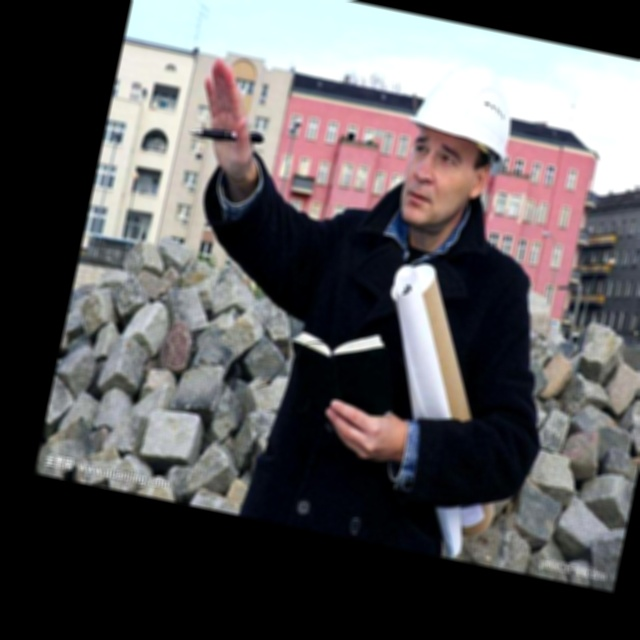Con_Casco: (386, 59, 525, 239)
Sin_Chaleco: (244, 198, 532, 562)
